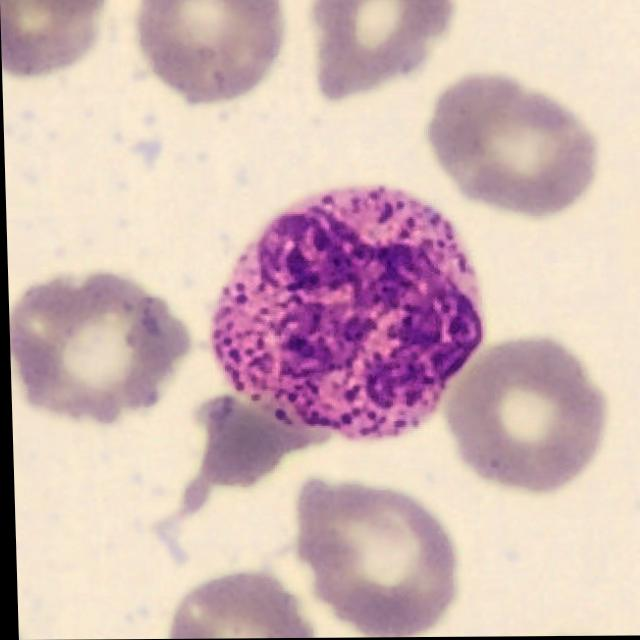Neutrofilo segmentado: (208, 186, 481, 444)
